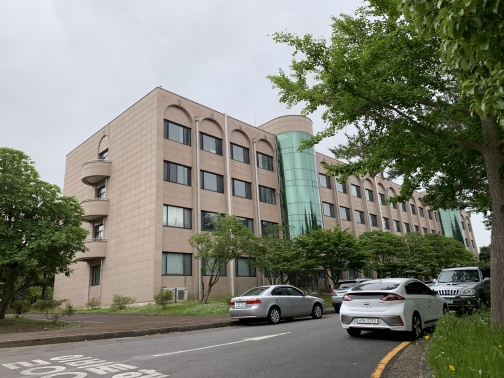Natural Science2: (58, 91, 329, 329), (156, 89, 462, 237), (72, 146, 143, 287)
